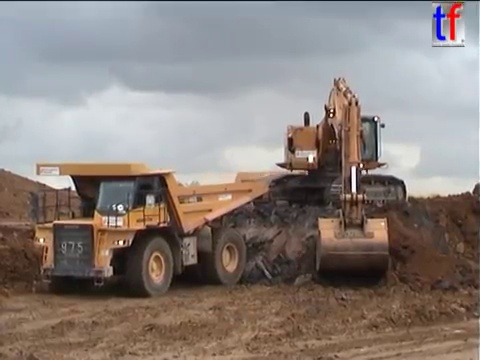excavator: (265, 73, 408, 279)
truck: (27, 160, 271, 299), (232, 162, 372, 206)
